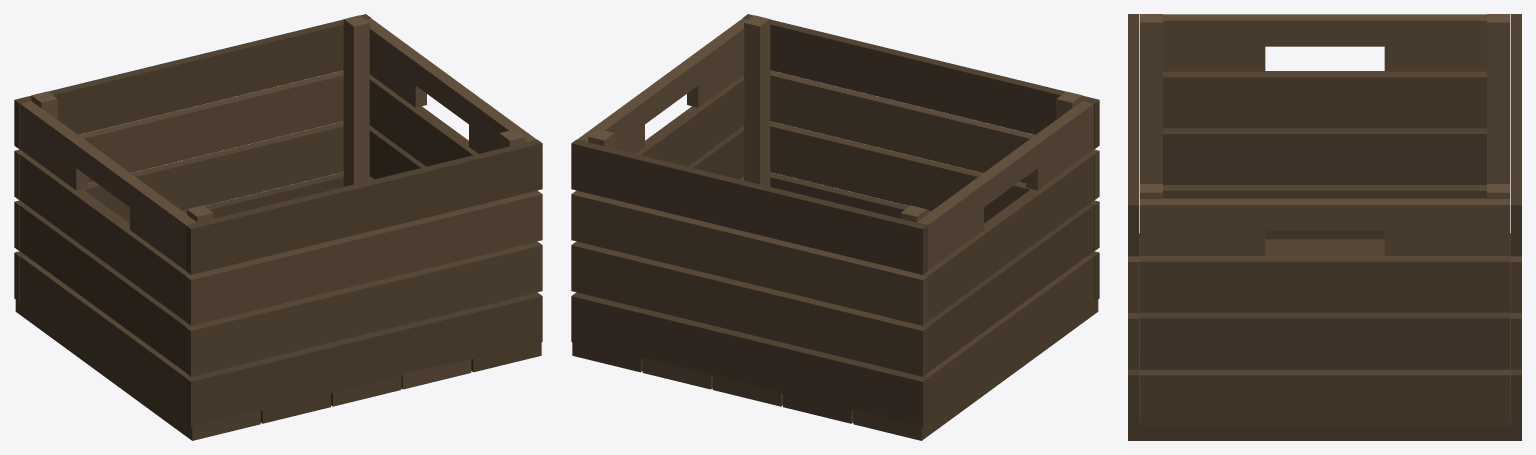
File: open_crate.glb
3 views of the same model, side by side, from view 1: azimuth 30°, elevation 25°; view 2: azimuth 150°, elevation 25°; view 3: azimuth 270°, elevation 25° (orthographic). The views are drawn at different scales.
Visible parts, largest first — view 1: OpenFruitCrate; view 2: OpenFruitCrate; view 3: OpenFruitCrate.
Boxes of the visible parts, x1=… form: OpenFruitCrate: x1=14, y1=14, x2=542, y2=440; OpenFruitCrate: x1=571, y1=14, x2=1099, y2=440; OpenFruitCrate: x1=1128, y1=14, x2=1521, y2=440.
Size of the model in its own units: 0.788 by 0.475 by 0.686.
